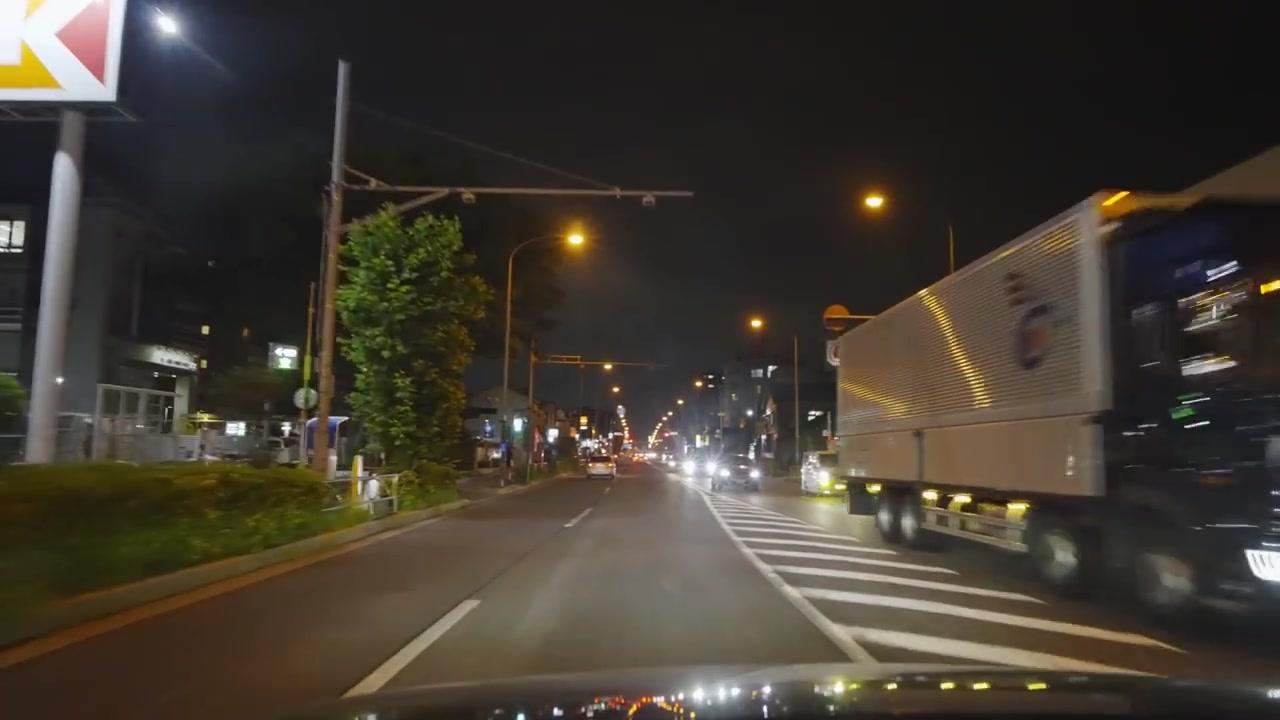car: (710, 454, 761, 491), (800, 451, 840, 494), (584, 456, 616, 478)
truck: (831, 150, 1278, 630)
